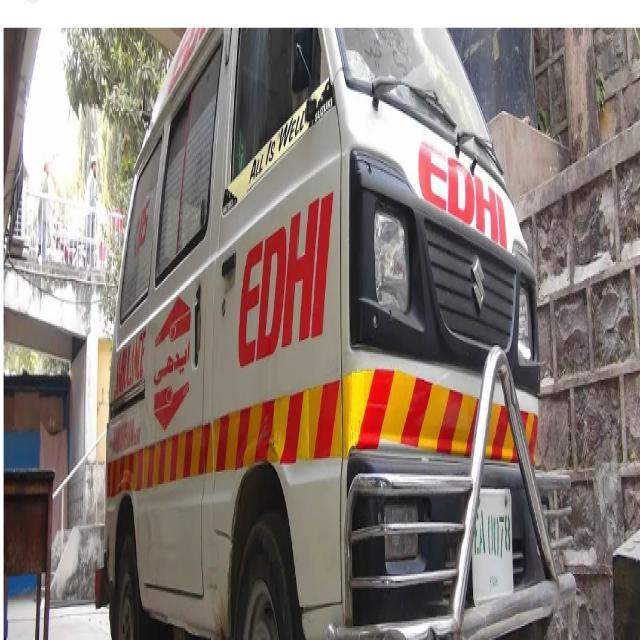ambulance: (120, 36, 544, 634)
